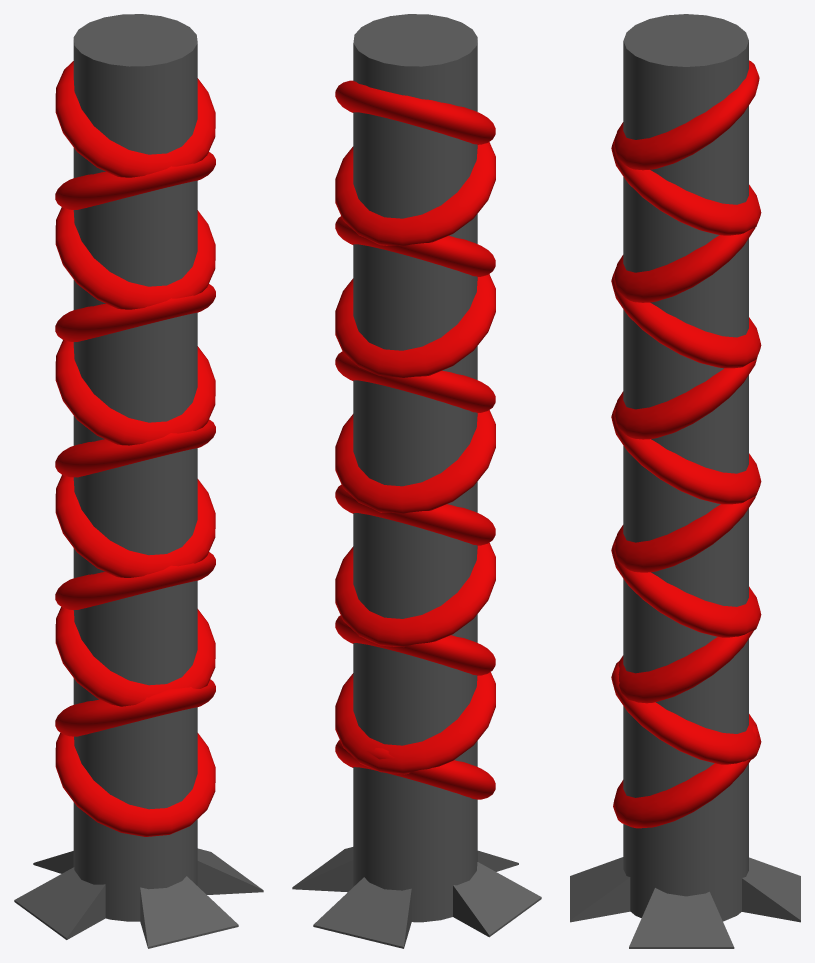
File: Pillar.fbx
3 views of the same model, side by side, from view 1: azimuth 30°, elevation 25°; view 2: azimuth 150°, elevation 25°; view 3: azimuth 270°, elevation 25° (orthographic).
Visible parts, largest first — view 1: pTorus13; view 2: pTorus13; view 3: pTorus13.
Boxes of the visible parts, bbox=[...] form: pTorus13: bbox=[14, 14, 263, 948]; pTorus13: bbox=[292, 14, 541, 948]; pTorus13: bbox=[570, 14, 800, 948].
Size of the model in its own units: 9.72 by 40.35 by 9.82.
